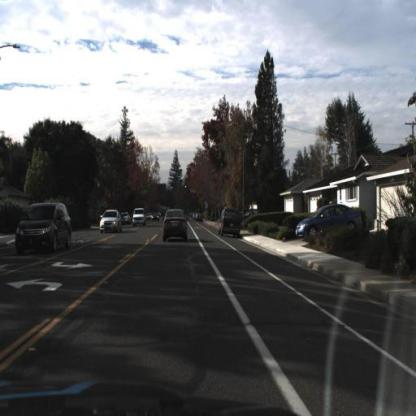car: (16, 203, 75, 253), (295, 204, 367, 243), (160, 207, 191, 247), (217, 208, 244, 239), (99, 208, 125, 235), (239, 208, 264, 231), (133, 208, 147, 227), (151, 210, 162, 224)
trafficLight-Green: (170, 180, 175, 193), (185, 179, 189, 190)
